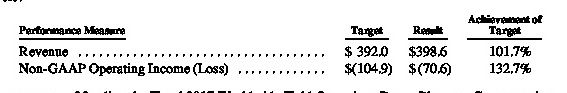table: (0, 0, 567, 93)
